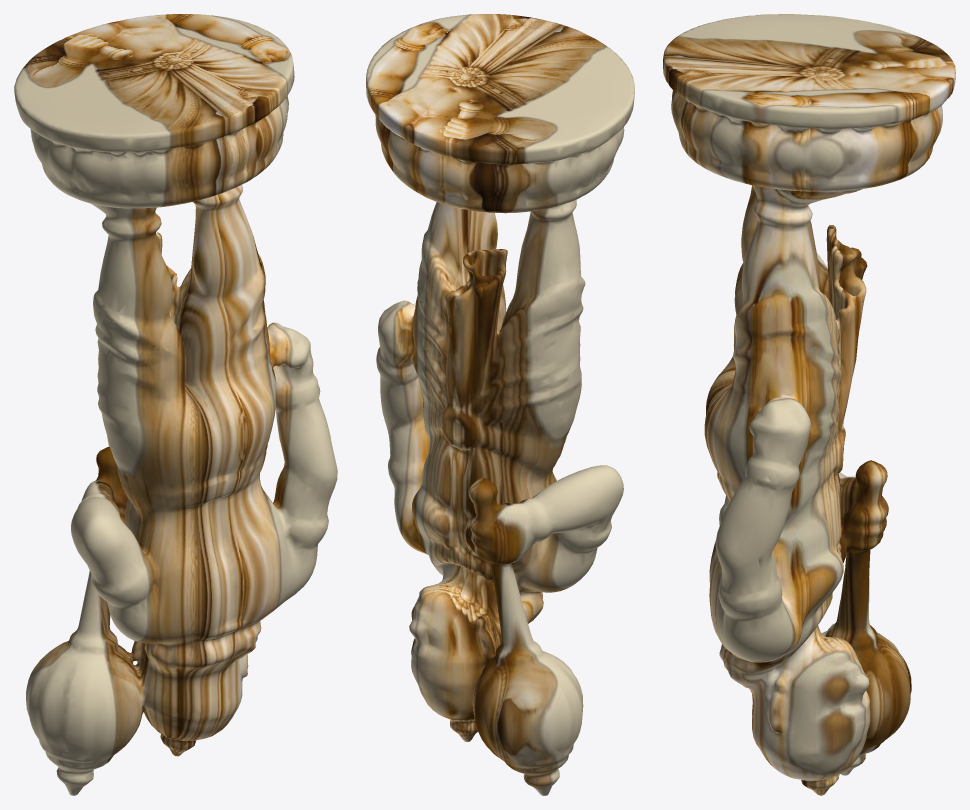
File: warrior.glb
3 views of the same model, side by side, from view 1: azimuth 30°, elevation 25°; view 2: azimuth 150°, elevation 25°; view 3: azimuth 270°, elevation 25° (orthographic). The views are drawn at different scales.
Visible parts, largest first — view 1: geometry_0; view 2: geometry_0; view 3: geometry_0.
Part boxes in pixels (<box>): geometry_0: <box>14,14,337,795</box>; geometry_0: <box>366,14,634,795</box>; geometry_0: <box>663,14,955,795</box>.
Size of the model in its own units: 0.7763 by 2.03 by 0.7094.
1 material, 1 textured.
